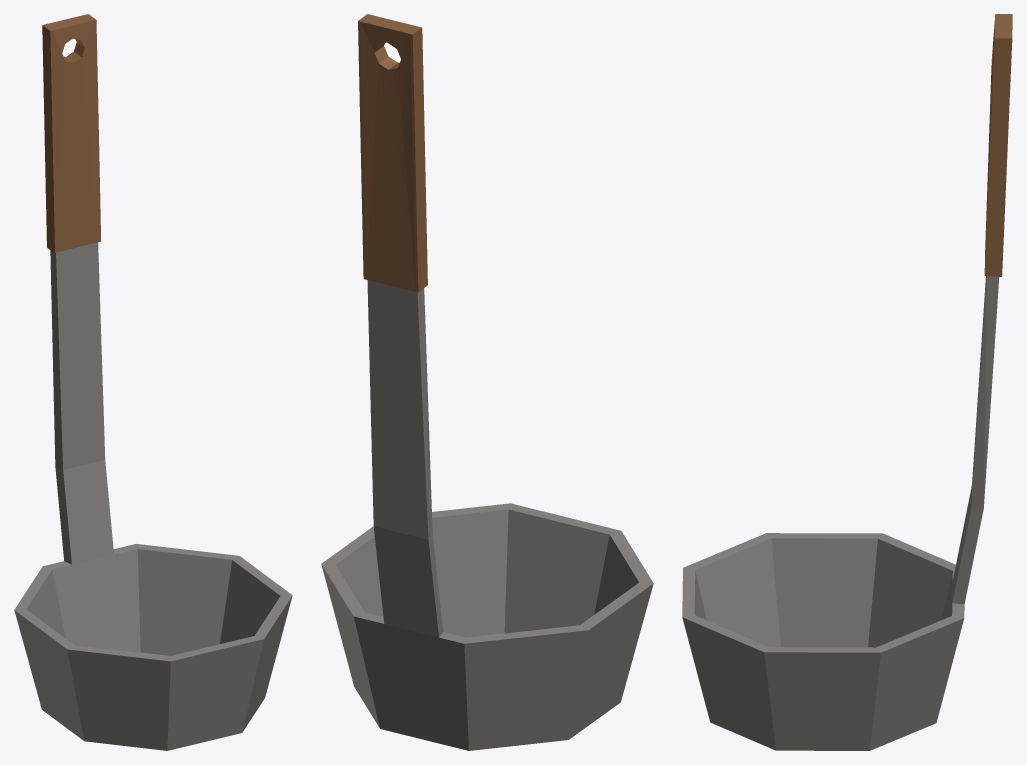
File: Ladle.fbx
3 renders of one model, left to right at view 1: azimuth 30°, elevation 25°; view 2: azimuth 150°, elevation 25°; view 3: azimuth 270°, elevation 25°, orthographic. The views are drawn at different scales.
Parts seen in each view (by area): view 1: Ladle; view 2: Ladle; view 3: Ladle.
Part boxes in pixels (x1=…): Ladle: x1=14, y1=14, x2=292, y2=750; Ladle: x1=321, y1=14, x2=653, y2=750; Ladle: x1=682, y1=14, x2=1012, y2=750.
Size of the model in its own units: 14.99 by 39.51 by 17.51.
